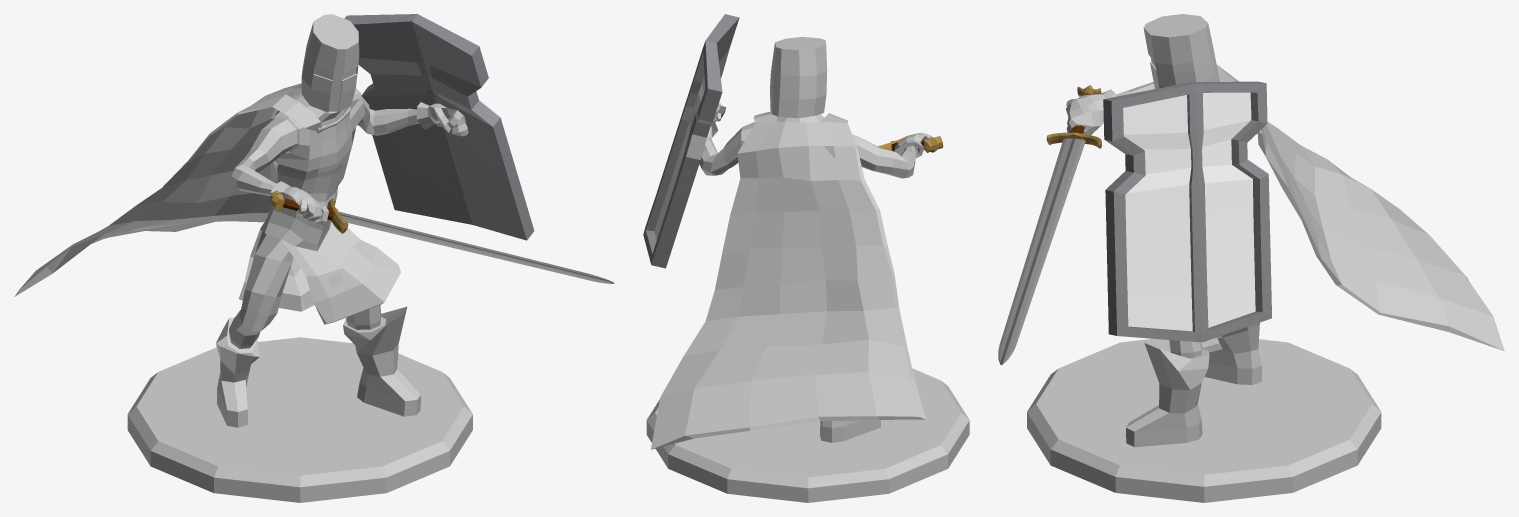
The model's file is Templar_Sword_Shield.fbx.
3 renders of one model, left to right at view 1: azimuth 30°, elevation 25°; view 2: azimuth 150°, elevation 25°; view 3: azimuth 270°, elevation 25°, orthographic. The views are drawn at different scales.
Parts seen in each view (by area): view 1: Base3, Templar_Sword_Shield, Shield, Cape, Sword; view 2: Cape, Base3, Templar_Sword_Shield, Shield, Sword; view 3: Shield, Base3, Cape, Templar_Sword_Shield, Sword.
Boxes of the visible parts, left/top/right/bottom form: Base3: left=127, top=337, right=472, bottom=502; Templar_Sword_Shield: left=216, top=14, right=468, bottom=427; Shield: left=344, top=14, right=534, bottom=240; Cape: left=14, top=83, right=360, bottom=296; Sword: left=270, top=190, right=614, bottom=283; Cape: left=651, top=111, right=926, bottom=449; Base3: left=646, top=368, right=969, bottom=502; Templar_Sword_Shield: left=699, top=37, right=931, bottom=442; Shield: left=643, top=14, right=739, bottom=268; Sword: left=878, top=136, right=943, bottom=152; Shield: left=1103, top=81, right=1271, bottom=342; Base3: left=1027, top=337, right=1381, bottom=502; Cape: left=1217, top=65, right=1504, bottom=350; Templar_Sword_Shield: left=1066, top=14, right=1261, bottom=447; Sword: left=998, top=85, right=1101, bottom=364.
Size of the model in its own units: 282 by 260 by 286.
